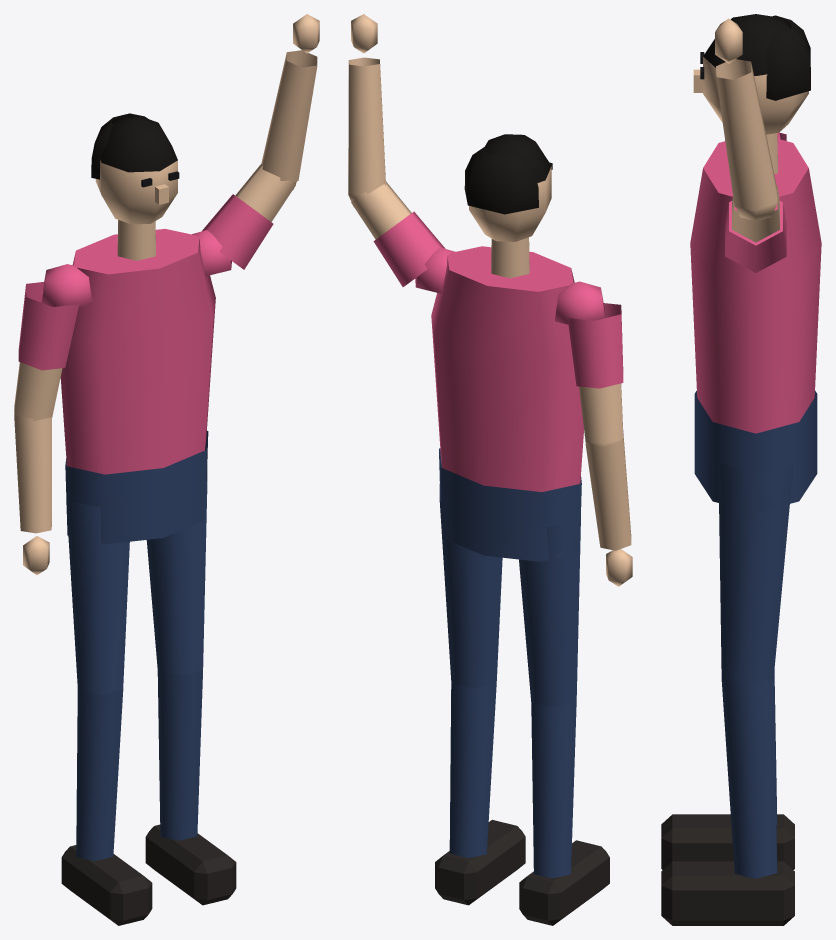
File: fan_k.dae
The picture shows the model from 3 angles, left to right: view 1: azimuth 30°, elevation 25°; view 2: azimuth 150°, elevation 25°; view 3: azimuth 270°, elevation 25°; orthographic projection. The views are drawn at different scales.
Parts seen in each view (by area): view 1: marker; view 2: marker; view 3: marker.
Part boxes in pixels (<box>): marker: <box>14,14,319,925</box>; marker: <box>348,14,632,925</box>; marker: <box>661,14,821,925</box>.
Size of the model in its own units: 0.6889 by 0.288 by 1.91.
Materials: 1 (1 with a texture image).
